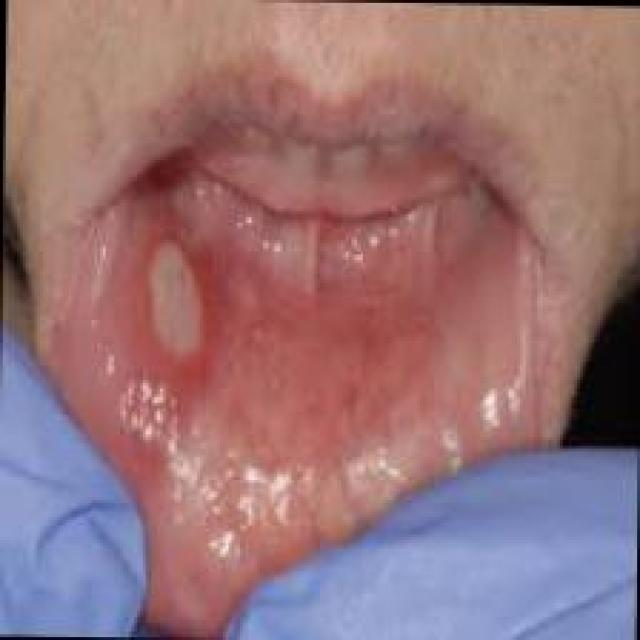processing_area: (50, 134, 562, 636)
ulcer-detection: (117, 205, 255, 417)
